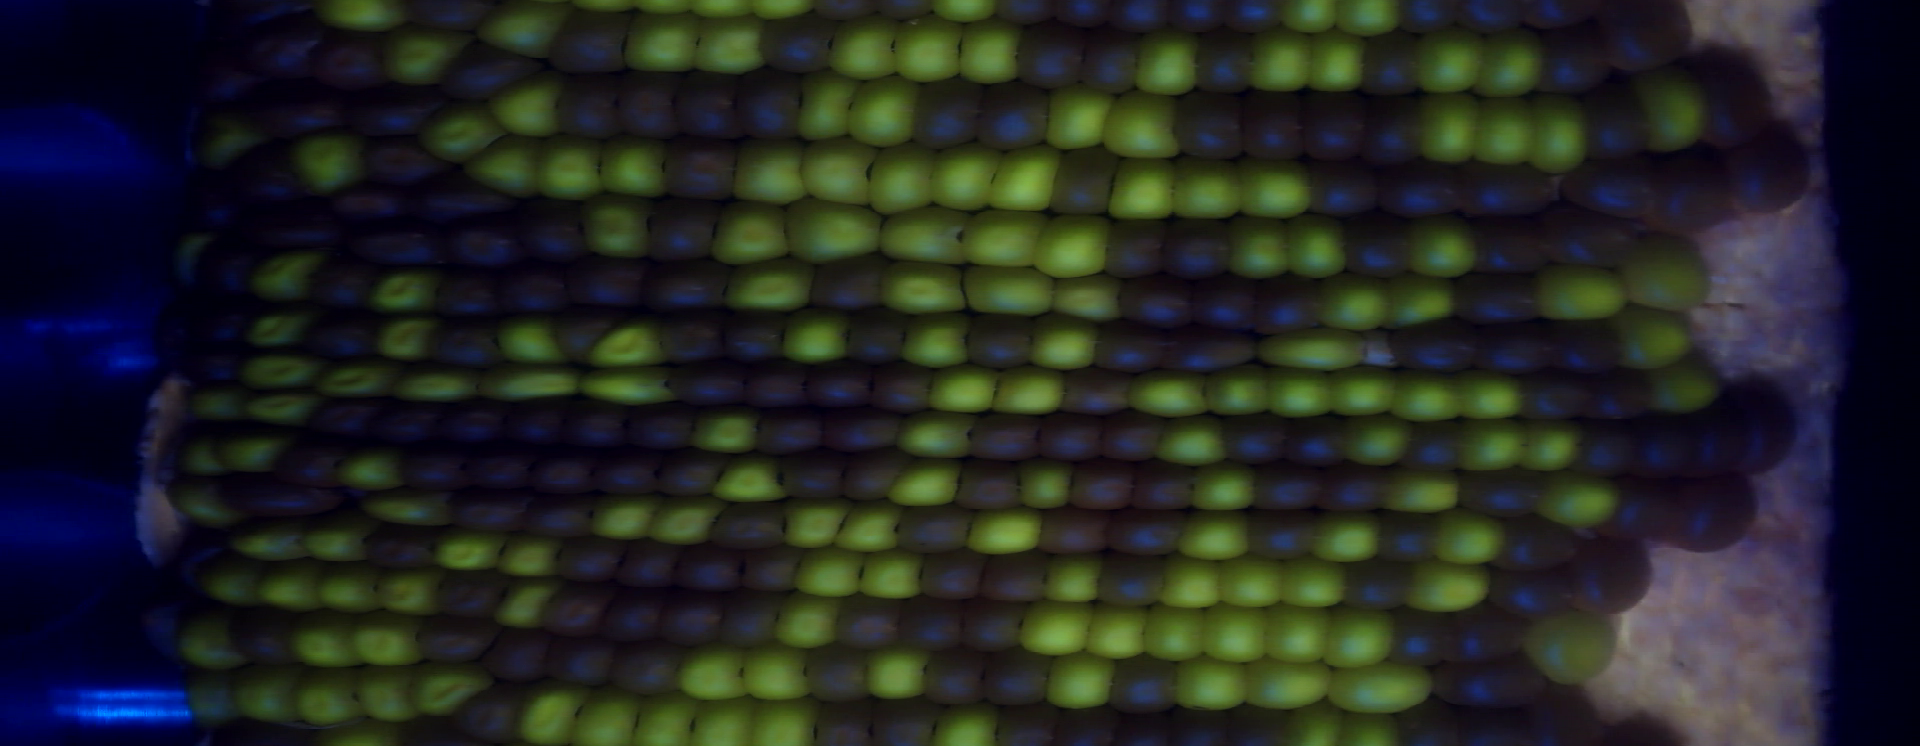fluorescent: (1611, 228, 1720, 316), (1629, 58, 1718, 160), (1517, 604, 1620, 691), (779, 194, 888, 267), (1527, 256, 1638, 326), (1326, 658, 1445, 722), (1097, 86, 1190, 167), (874, 201, 975, 274), (1468, 23, 1559, 104), (279, 127, 373, 205), (727, 130, 814, 213), (380, 18, 480, 89), (1407, 86, 1488, 174), (615, 6, 711, 78), (1520, 89, 1596, 181), (861, 138, 945, 220), (793, 135, 880, 214), (1251, 322, 1376, 377), (528, 127, 612, 208), (1224, 151, 1319, 223), (980, 142, 1069, 218), (504, 673, 596, 746), (1608, 301, 1700, 375), (873, 254, 975, 320), (482, 65, 571, 141), (410, 94, 501, 168), (1025, 207, 1116, 281), (703, 197, 795, 269), (841, 71, 924, 151), (1240, 652, 1344, 715), (1406, 20, 1491, 97), (476, 1, 578, 66), (460, 131, 551, 203), (955, 205, 1051, 272), (926, 138, 1004, 220), (1401, 555, 1501, 619), (956, 261, 1062, 321), (1036, 80, 1120, 154), (683, 9, 769, 82), (1128, 22, 1205, 103), (1220, 208, 1302, 284), (1531, 465, 1626, 530), (1164, 152, 1250, 224), (1311, 266, 1400, 336), (577, 187, 656, 265), (1240, 23, 1319, 100), (185, 102, 266, 176), (1467, 89, 1540, 171), (1300, 21, 1375, 100), (1102, 153, 1182, 228), (400, 658, 493, 722), (733, 639, 817, 710), (1318, 603, 1401, 674), (716, 257, 817, 316), (287, 508, 377, 573), (823, 12, 904, 85), (160, 470, 249, 537), (571, 359, 681, 412), (1168, 649, 1254, 717), (891, 10, 967, 86), (1014, 595, 1101, 661), (288, 661, 369, 733), (239, 244, 331, 306), (775, 492, 863, 557), (1447, 412, 1536, 477), (220, 659, 304, 728), (1120, 363, 1217, 421), (1402, 207, 1479, 281), (954, 13, 1026, 92), (1258, 599, 1336, 671), (889, 405, 983, 465), (168, 608, 249, 677), (1256, 359, 1340, 426), (217, 514, 320, 568), (768, 586, 850, 653), (1441, 363, 1533, 423), (1638, 356, 1727, 419), (595, 129, 669, 203), (1277, 209, 1353, 282), (1382, 363, 1467, 428), (580, 314, 673, 372), (1194, 599, 1272, 669), (580, 485, 669, 546), (676, 636, 752, 707), (790, 66, 860, 143), (284, 606, 362, 675), (1374, 266, 1460, 328), (879, 454, 970, 513), (489, 307, 571, 372), (1429, 505, 1511, 570), (206, 421, 300, 478), (1025, 305, 1101, 375), (1044, 649, 1123, 717), (921, 360, 1005, 423), (1194, 358, 1275, 423), (473, 359, 585, 405), (1169, 503, 1256, 563), (860, 639, 936, 708), (643, 490, 726, 552), (1210, 551, 1293, 614), (353, 484, 460, 532), (827, 496, 907, 560), (1380, 463, 1469, 521), (1078, 598, 1153, 665), (1138, 601, 1215, 668), (626, 685, 709, 746), (895, 307, 973, 372), (1307, 503, 1385, 568), (1338, 410, 1420, 472), (778, 301, 853, 367), (569, 681, 647, 746), (959, 501, 1046, 559), (1273, 550, 1352, 614), (304, 355, 405, 404), (986, 363, 1070, 421), (702, 451, 790, 507), (388, 358, 482, 410), (347, 659, 419, 728), (1151, 548, 1226, 614), (362, 265, 448, 322), (193, 551, 271, 615), (1179, 457, 1262, 516), (175, 664, 249, 730), (851, 541, 927, 605), (683, 404, 769, 461), (312, 557, 389, 620), (789, 543, 869, 601), (1044, 269, 1127, 327), (1329, 363, 1407, 423), (344, 610, 425, 668), (484, 578, 566, 635), (1152, 410, 1231, 469), (1515, 412, 1589, 473), (369, 565, 451, 620), (426, 524, 512, 577), (747, 691, 827, 746), (684, 692, 765, 746), (1037, 546, 1108, 608), (327, 443, 409, 496), (923, 697, 1011, 746), (240, 303, 323, 354), (372, 311, 448, 367), (231, 349, 326, 394), (250, 559, 327, 614), (1009, 452, 1078, 513), (493, 529, 568, 584), (163, 428, 235, 484), (306, 1, 415, 36), (239, 387, 320, 432), (1280, 696, 1351, 746), (1337, 703, 1412, 746), (184, 377, 251, 423), (168, 228, 214, 290)
nonfluorescent: (1686, 38, 1783, 151), (1722, 114, 1817, 216), (1584, 1, 1707, 78), (1647, 140, 1742, 238), (1668, 467, 1768, 556), (1716, 372, 1806, 469), (1562, 534, 1664, 619), (1536, 200, 1651, 273), (433, 34, 544, 107), (396, 167, 519, 230), (1524, 16, 1620, 98), (1427, 650, 1554, 712), (203, 467, 342, 522), (1449, 153, 1561, 219), (542, 1, 636, 81), (344, 80, 452, 148), (669, 61, 751, 151), (336, 209, 446, 276), (969, 75, 1058, 156), (1038, 142, 1130, 220), (905, 70, 988, 156), (353, 129, 460, 195), (656, 129, 747, 207), (1573, 77, 1652, 168), (1558, 158, 1667, 223), (1371, 152, 1472, 222), (184, 37, 264, 122), (511, 189, 598, 268), (229, 197, 351, 254), (729, 62, 809, 146), (1444, 267, 1551, 330), (1510, 677, 1608, 746), (224, 138, 312, 214), (752, 7, 842, 81), (1385, 314, 1487, 379), (1464, 314, 1564, 380), (301, 26, 397, 94), (1291, 85, 1371, 165), (549, 72, 636, 147), (246, 7, 328, 86), (1674, 403, 1760, 478), (1485, 511, 1586, 575), (804, 247, 895, 317), (1593, 480, 1684, 550), (1234, 85, 1310, 168), (636, 254, 735, 317), (1331, 209, 1417, 283), (313, 173, 420, 232), (976, 639, 1064, 710), (1441, 600, 1536, 666), (1172, 85, 1248, 167), (1098, 648, 1189, 717), (1299, 151, 1386, 222), (1153, 323, 1262, 380), (189, 234, 269, 310), (609, 62, 683, 145), (1009, 22, 1093, 94), (956, 304, 1041, 376), (1452, 462, 1551, 522), (644, 195, 724, 269), (1352, 91, 1431, 165), (1158, 208, 1239, 282), (219, 601, 302, 673), (1109, 269, 1200, 334), (1100, 503, 1198, 563), (1354, 26, 1431, 102), (1075, 20, 1149, 99), (1237, 501, 1322, 568), (1333, 552, 1419, 620), (440, 211, 530, 274), (163, 164, 250, 230), (1537, 312, 1624, 379), (1245, 271, 1329, 339), (1464, 214, 1558, 276), (829, 590, 909, 661), (542, 300, 629, 365), (560, 247, 651, 309), (1484, 562, 1575, 624), (490, 260, 584, 318), (299, 388, 393, 447), (253, 91, 355, 145), (1188, 22, 1258, 100), (1378, 603, 1456, 673), (1565, 364, 1656, 424), (889, 497, 976, 560), (618, 396, 700, 462), (1087, 552, 1176, 614), (1627, 414, 1701, 488), (1089, 314, 1169, 380), (1187, 269, 1259, 343), (896, 588, 972, 658), (955, 592, 1033, 659), (606, 637, 688, 701), (1512, 366, 1603, 424), (801, 637, 877, 706), (649, 587, 727, 653), (798, 350, 883, 412), (648, 442, 732, 503), (448, 681, 528, 746), (662, 359, 758, 413), (442, 485, 538, 539), (917, 644, 993, 712), (1242, 459, 1329, 518), (558, 390, 636, 456), (962, 405, 1046, 467), (497, 390, 577, 453), (413, 611, 502, 668), (429, 266, 511, 327), (973, 548, 1056, 609), (864, 356, 940, 423), (432, 563, 516, 624), (1218, 409, 1297, 473), (609, 533, 688, 595), (550, 528, 629, 590), (1100, 213, 1171, 283), (948, 454, 1029, 516), (1033, 405, 1109, 470), (708, 496, 795, 552), (541, 631, 624, 690), (426, 314, 511, 371), (1067, 452, 1140, 518), (735, 353, 816, 413), (1029, 500, 1111, 559), (1125, 457, 1202, 519), (295, 309, 384, 363), (1057, 360, 1140, 418), (842, 303, 913, 370), (1569, 419, 1642, 484), (835, 446, 913, 506), (715, 587, 784, 655), (1276, 407, 1347, 473), (160, 537, 235, 599), (479, 622, 553, 685), (713, 307, 793, 365), (307, 254, 388, 311), (147, 296, 208, 372), (538, 579, 613, 641), (585, 441, 662, 501), (771, 447, 853, 503), (816, 404, 907, 454), (1092, 407, 1171, 465), (1395, 414, 1467, 478), (393, 442, 474, 499), (433, 393, 511, 452), (271, 435, 347, 494), (1311, 459, 1392, 514), (356, 521, 437, 575), (867, 692, 948, 746), (651, 310, 729, 366), (670, 539, 744, 597), (747, 405, 827, 459), (601, 586, 671, 647), (376, 394, 448, 452), (518, 492, 599, 544), (1221, 698, 1308, 746), (735, 539, 808, 594), (522, 445, 600, 496), (462, 443, 540, 495), (1373, 507, 1444, 563), (922, 544, 989, 603), (197, 295, 266, 352), (806, 695, 880, 746), (1151, 702, 1238, 746), (991, 699, 1071, 746), (1102, 703, 1188, 746), (1392, 696, 1464, 746), (396, 1, 492, 38), (1043, 704, 1123, 746), (1450, 1, 1531, 42), (182, 341, 252, 383)
